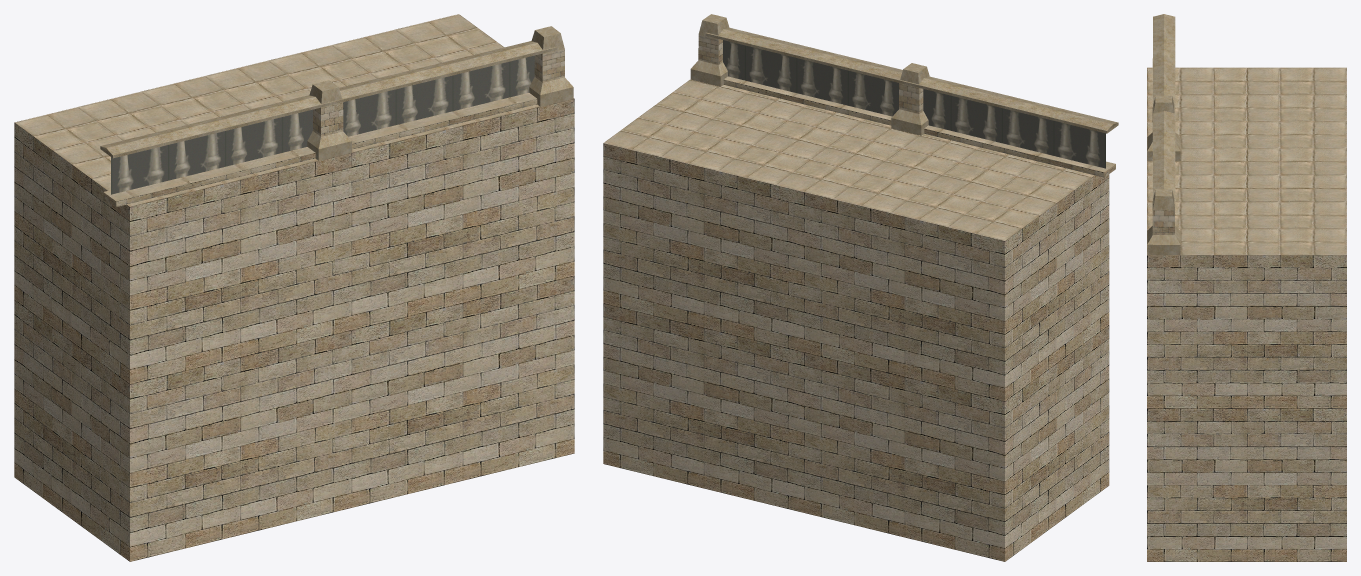
File: thm_nboo_thed_imprv_seawall_straight_s01_l1.fbx
3 renders of one model, left to right at view 1: azimuth 30°, elevation 25°; view 2: azimuth 150°, elevation 25°; view 3: azimuth 270°, elevation 25°, orthographic. The views are drawn at different scales.
Parts seen in each view (by area): view 1: mesh_node; view 2: mesh_node; view 3: mesh_node.
Boxes of the visible parts, <box> form: mesh_node: <box>14,14,574,561</box>; mesh_node: <box>603,14,1118,561</box>; mesh_node: <box>1147,14,1346,561</box>.
Size of the model in its own units: 8.25 by 7.2 by 3.6.
